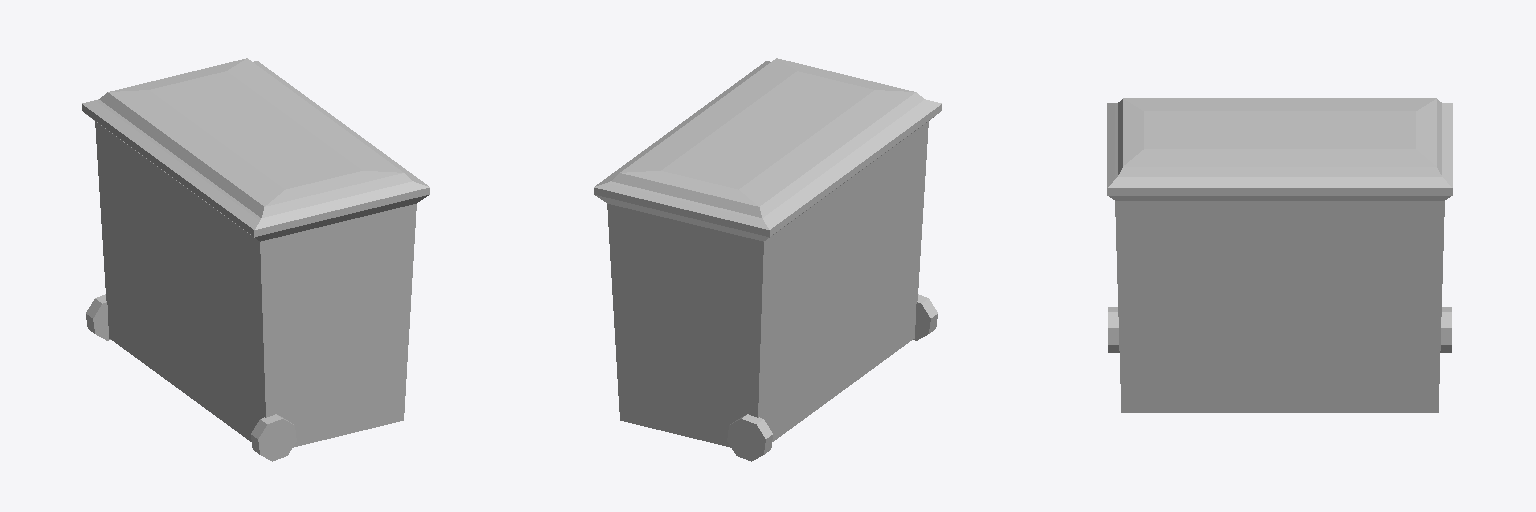
The model's file is Muelltonne_Lang_noMat.obj.
3 renders of one model, left to right at view 1: azimuth 30°, elevation 25°; view 2: azimuth 150°, elevation 25°; view 3: azimuth 270°, elevation 25°, orthographic.
Visible parts, largest first — view 1: Muelltonne_Lang1; view 2: Muelltonne_Lang1; view 3: Muelltonne_Lang1.
Part boxes in pixels (x1,y1,x2,y2): Muelltonne_Lang1: (82,58,429,461); Muelltonne_Lang1: (594,58,941,461); Muelltonne_Lang1: (1107,98,1452,412).
Bounding box in the file's own units: 75.59 × 103 × 129.